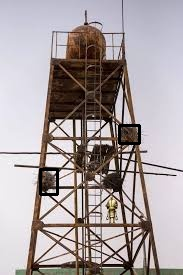bird-nest: (103, 173, 122, 187), (122, 126, 140, 139), (42, 172, 55, 189)
